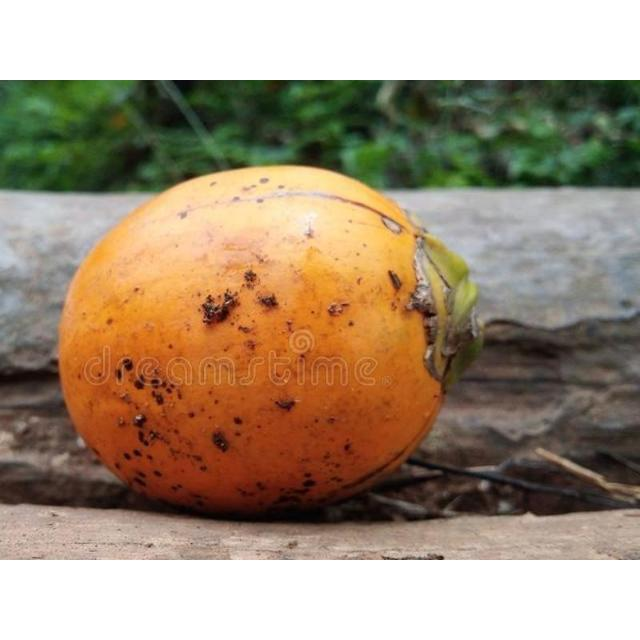good: (56, 166, 482, 522)
